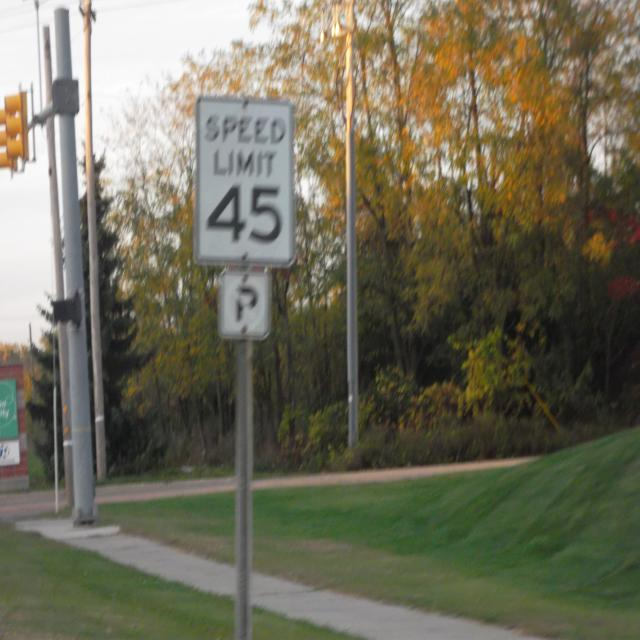regulatory: (198, 97, 294, 269), (214, 268, 280, 338)
